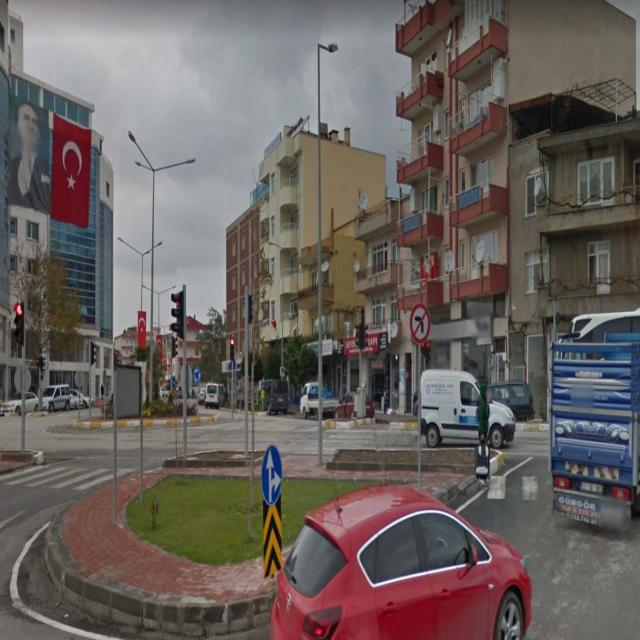ilerisag: (262, 446, 283, 505)
soladonulmez: (412, 304, 430, 340)
